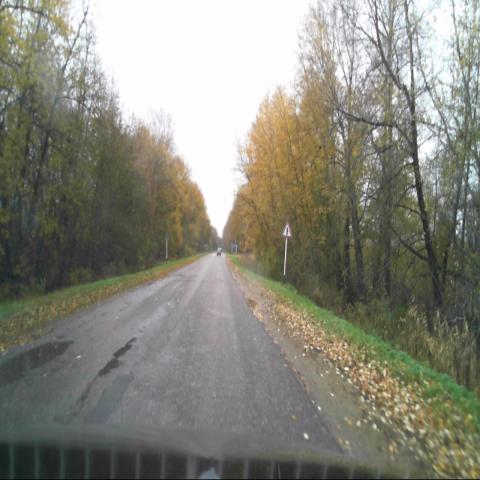2_3_2: (282, 220, 292, 237)
